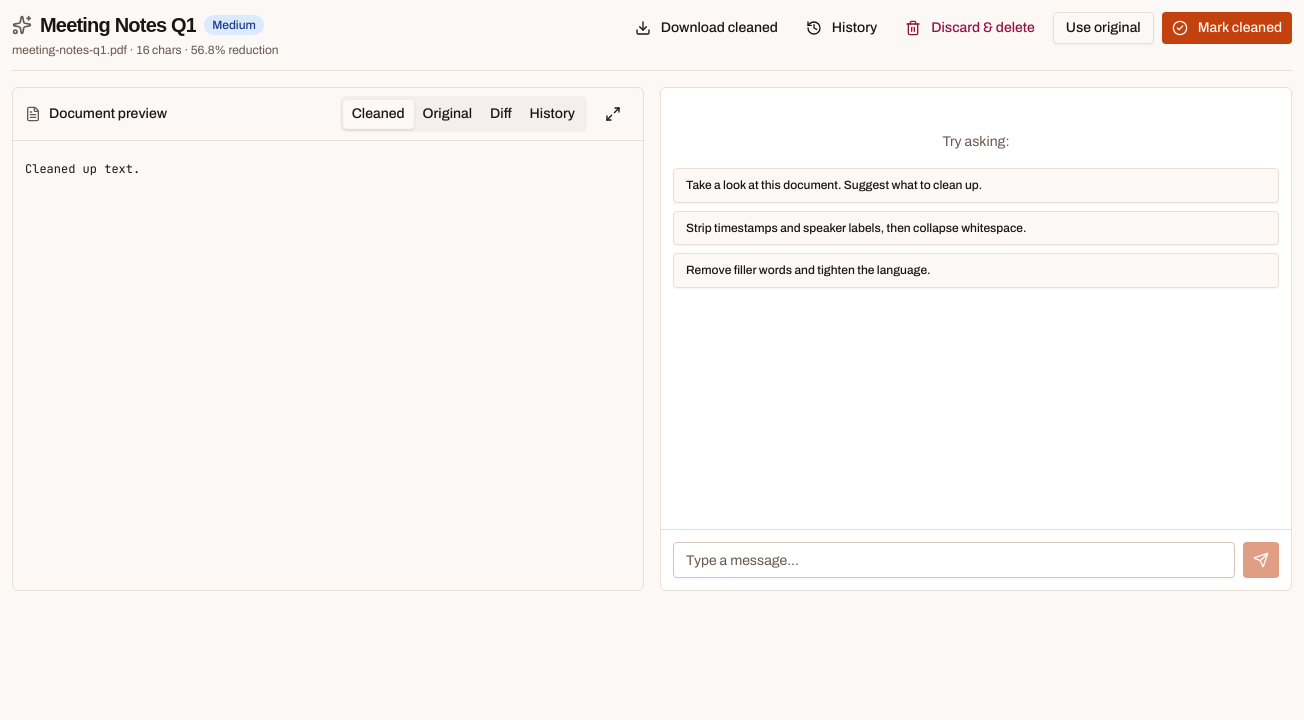
Test: CleanupView › does not redirect when the finalise POST fails
Step 1. Click the button "Use original" → (1103, 28), box [1053,12,1154,44]
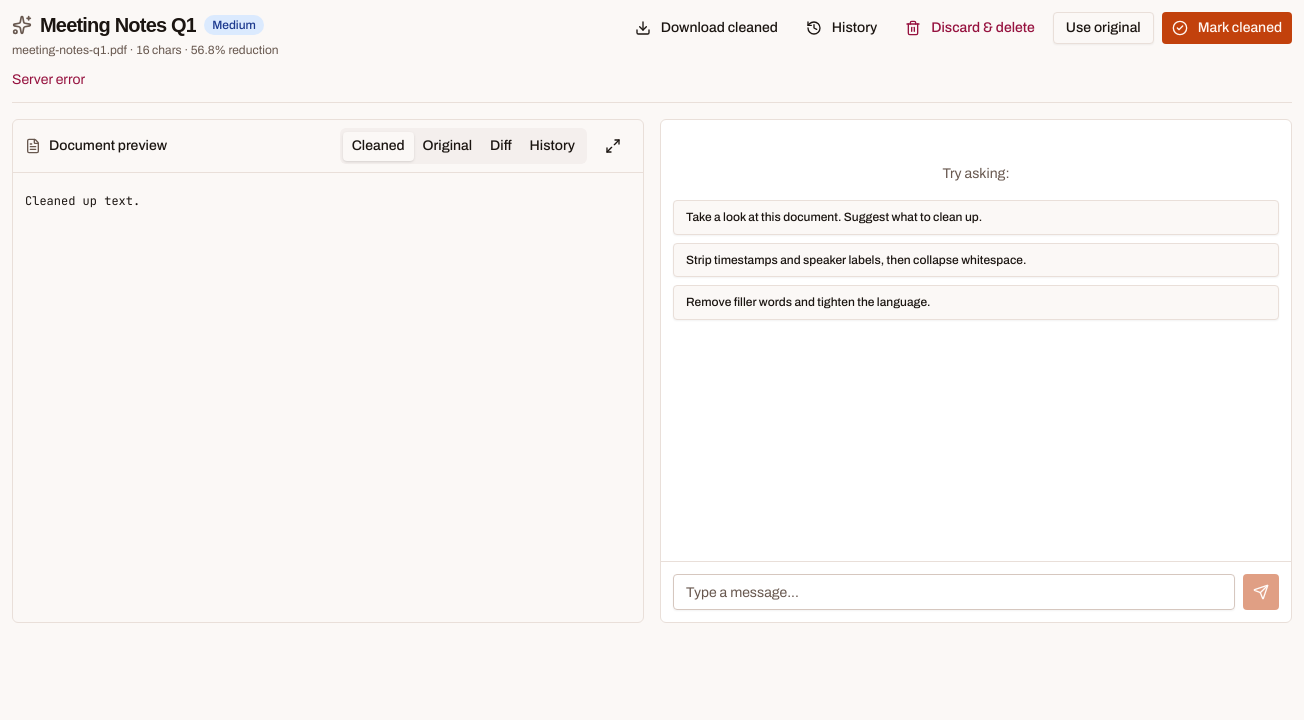
Now the text "Server error" is shown, box [12,72,85,87]
